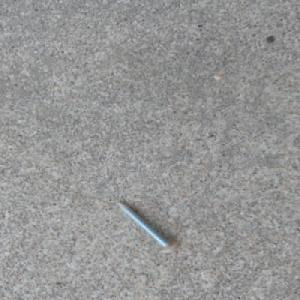Screw: (115, 200, 180, 253)
